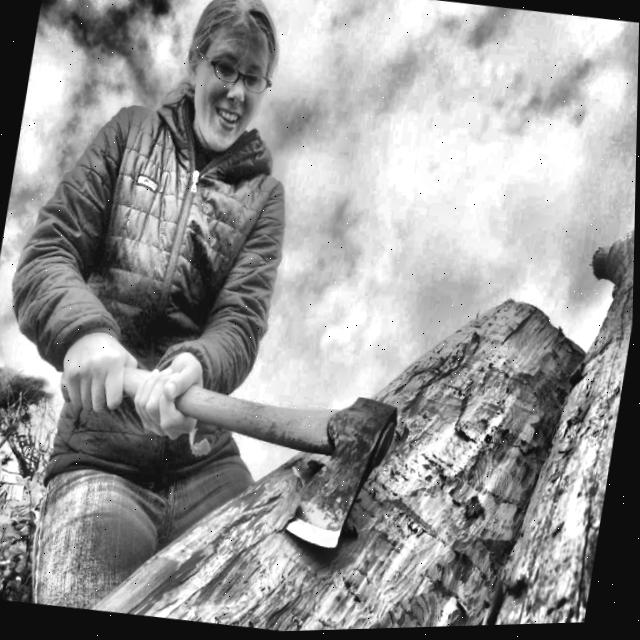kapak: (46, 355, 406, 554)
